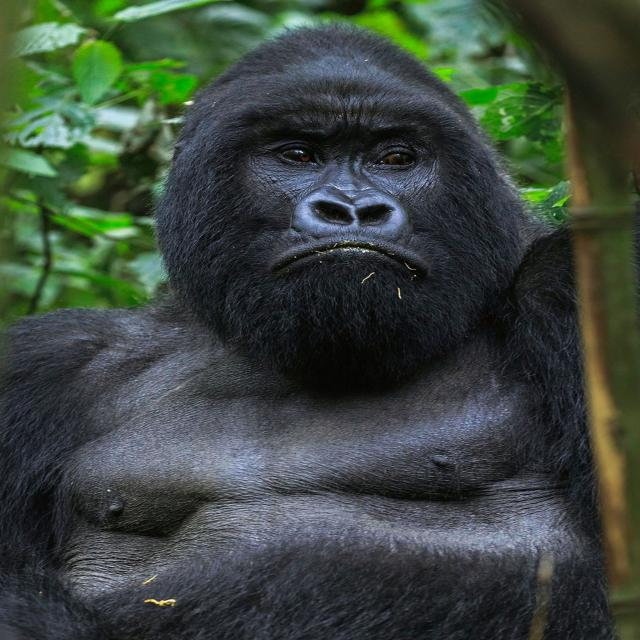Gorilla: (30, 30, 587, 640)
